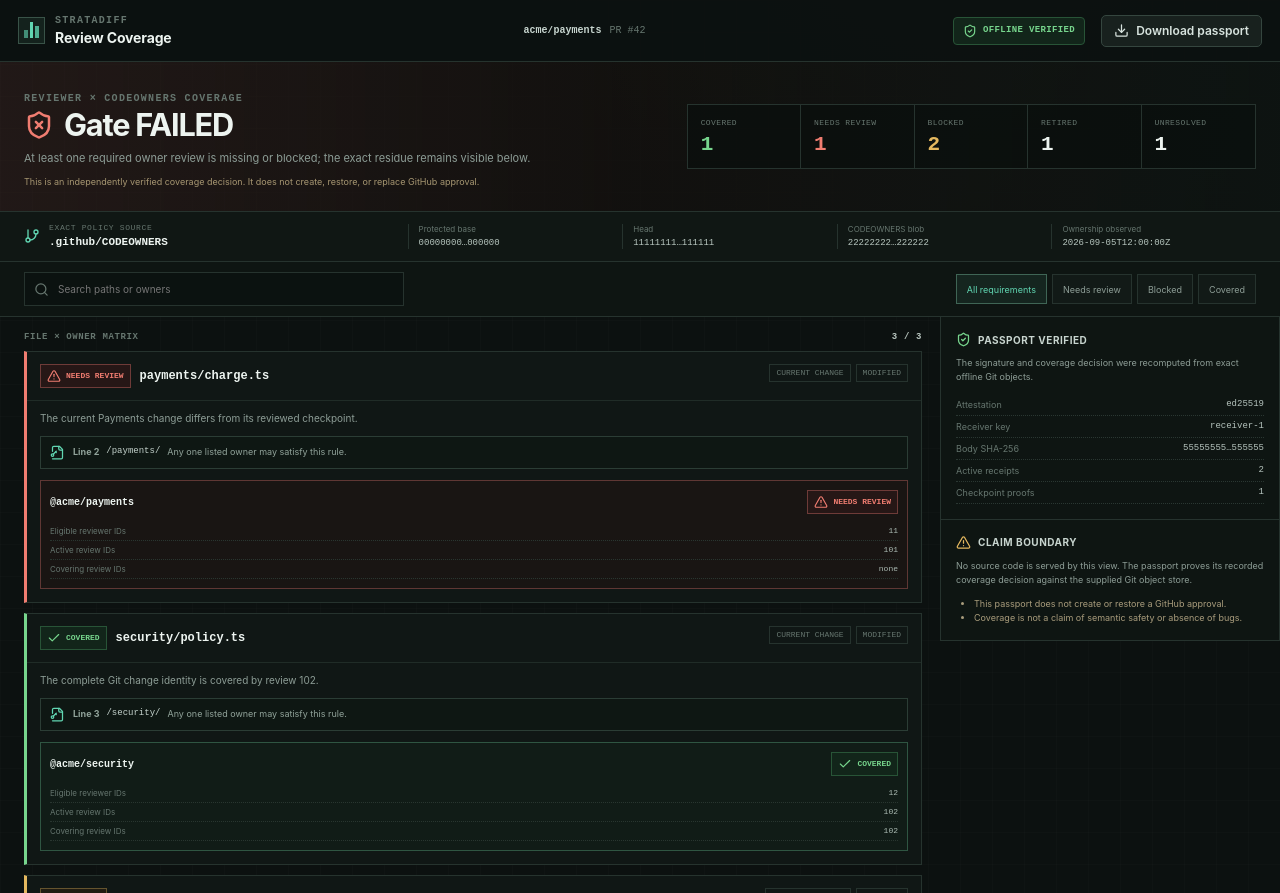
Scenario: Evidence Workbench › filters the passport matrix by coverage state and owner
Expected: the heading "Gate FAILED" is shown, [64,110,233,141]
Click the button "Covered" at (1227, 289), box [1198,274,1256,304]
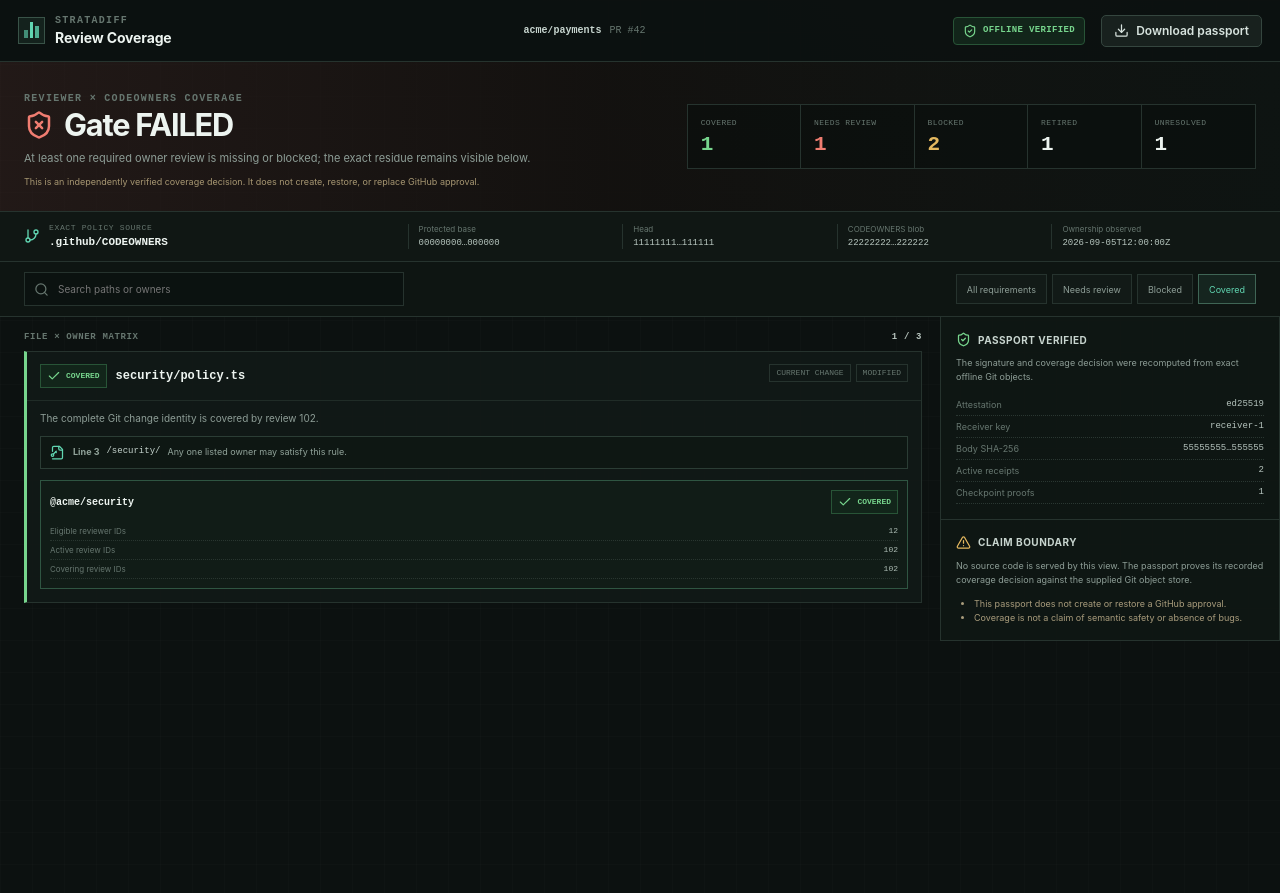
Expected: the heading "security/policy.ts" is shown, [116,368,245,384]
Result: the heading "payments/charge.ts" is gone
Click the button "All requirements" at (1001, 289), box [956,274,1047,304]
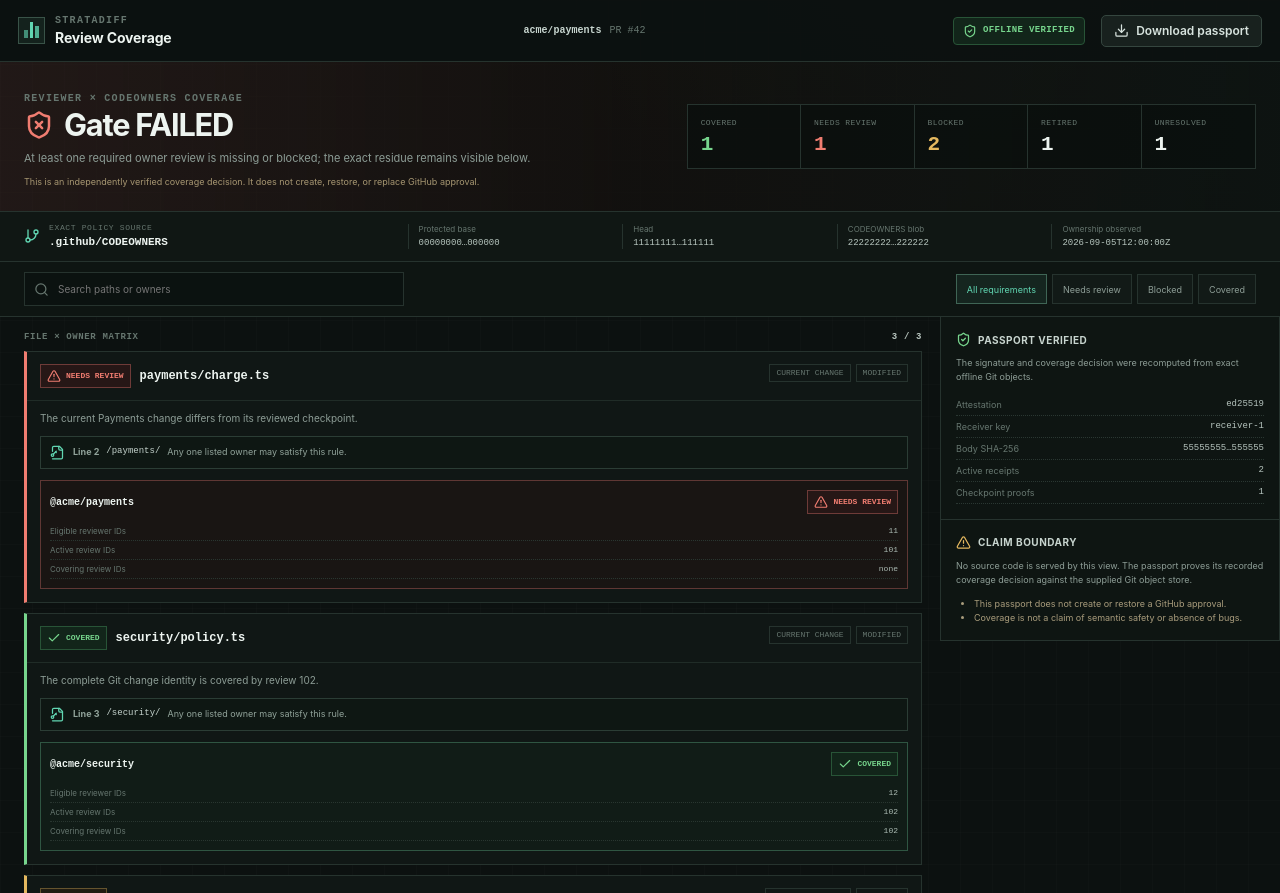
Type "@acme/payments" into the field labelled "Search paths or owners" at (225, 289), box [56,282,394,296]
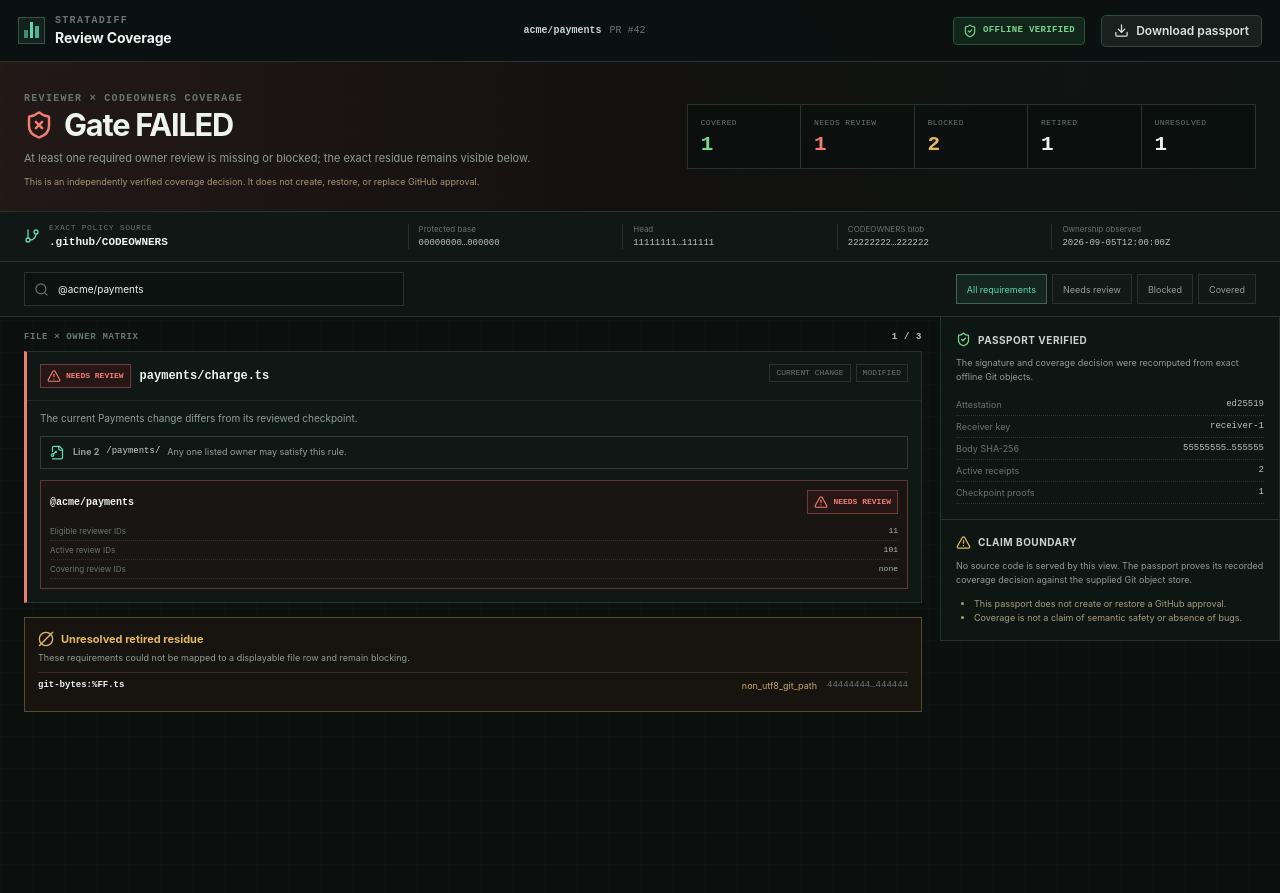
Result: the heading "payments/charge.ts" is shown at [140,368,269,384]
Result: the heading "security/policy.ts" is gone
